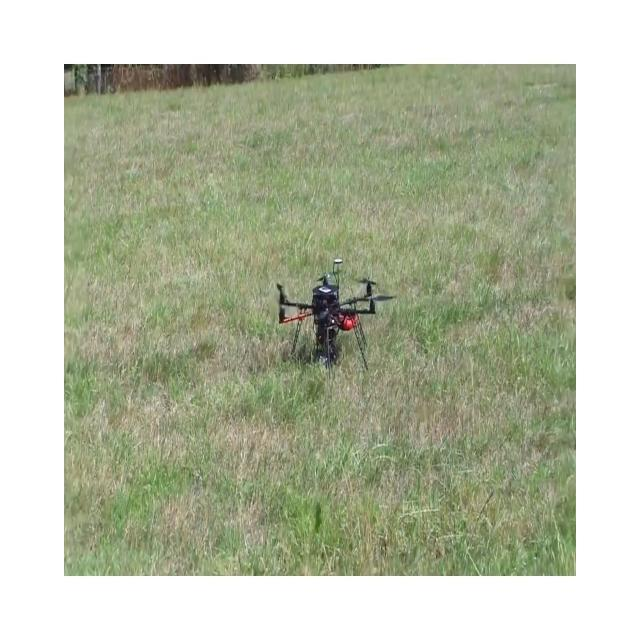drone: (267, 256, 396, 372)
